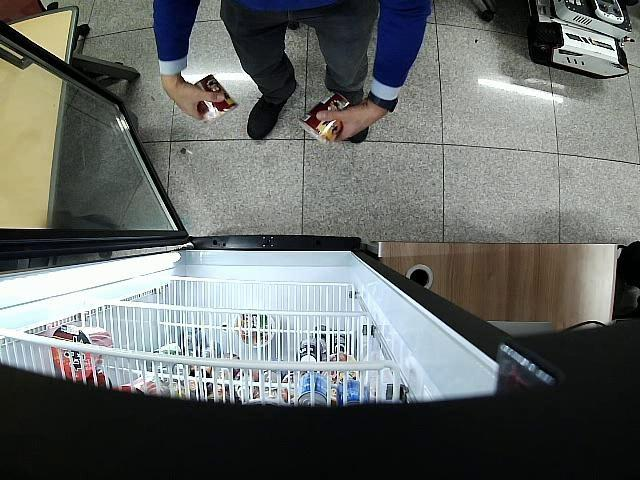06_nuguri_S: (299, 92, 352, 142), (194, 73, 238, 124)
